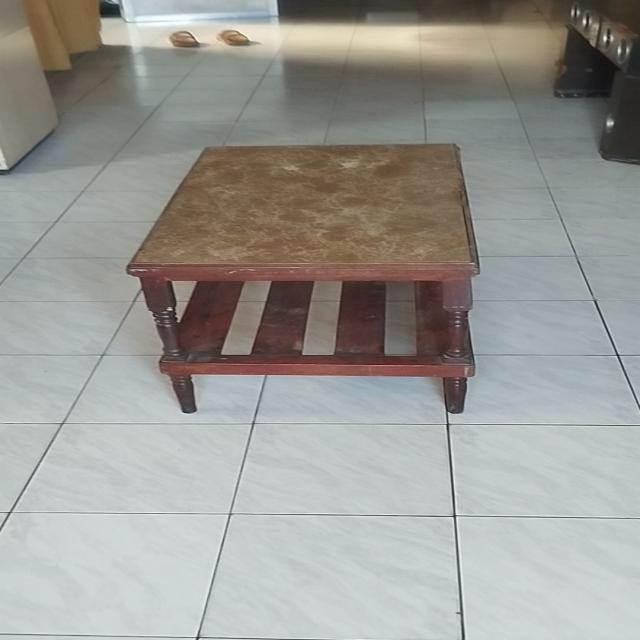table: (119, 139, 480, 419)
